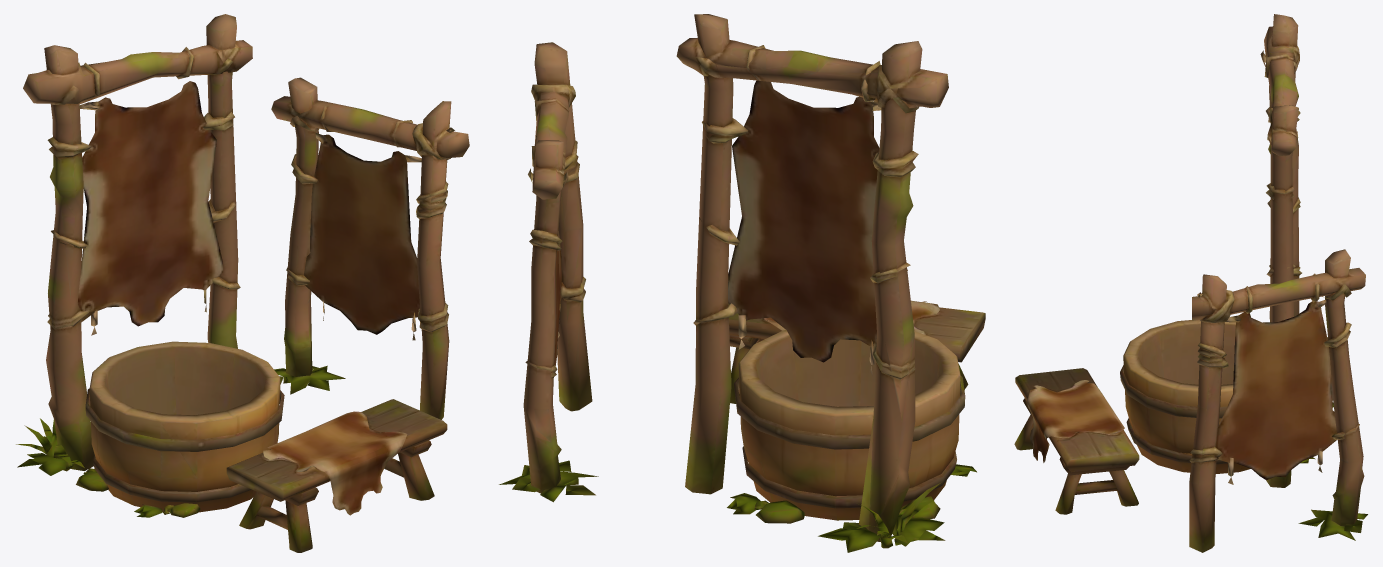
File: station_tannery_rack.glb
The picture shows the model from 3 angles, left to right: view 1: azimuth 30°, elevation 25°; view 2: azimuth 150°, elevation 25°; view 3: azimuth 270°, elevation 25°; orthographic projection. The views are drawn at different scales.
Visible parts, largest first — view 1: tripo_node_519d560d-1454-4132-a2b8-0e5a613f5955; view 2: tripo_node_519d560d-1454-4132-a2b8-0e5a613f5955; view 3: tripo_node_519d560d-1454-4132-a2b8-0e5a613f5955.
Boxes of the visible parts, left/top/right/bottom form: tripo_node_519d560d-1454-4132-a2b8-0e5a613f5955: left=16, top=14, right=469, bottom=552; tripo_node_519d560d-1454-4132-a2b8-0e5a613f5955: left=499, top=14, right=985, bottom=552; tripo_node_519d560d-1454-4132-a2b8-0e5a613f5955: left=1014, top=14, right=1367, bottom=552.
Bounding box in the file's own units: 2.94 × 3 × 2.48.
1 material, 1 textured.
